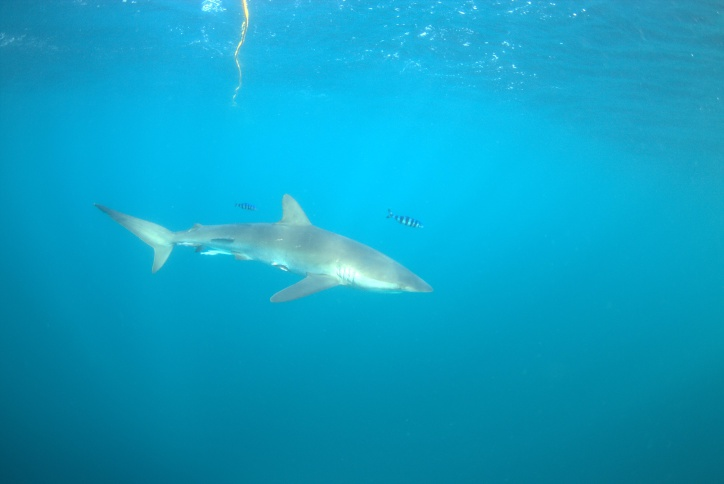Sedoso: (64, 174, 467, 324)
